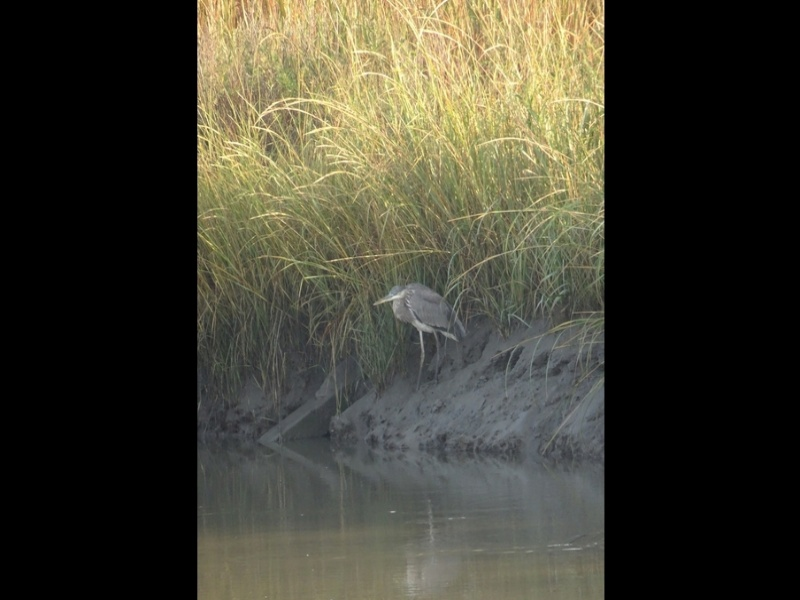heron: (377, 280, 459, 391)
